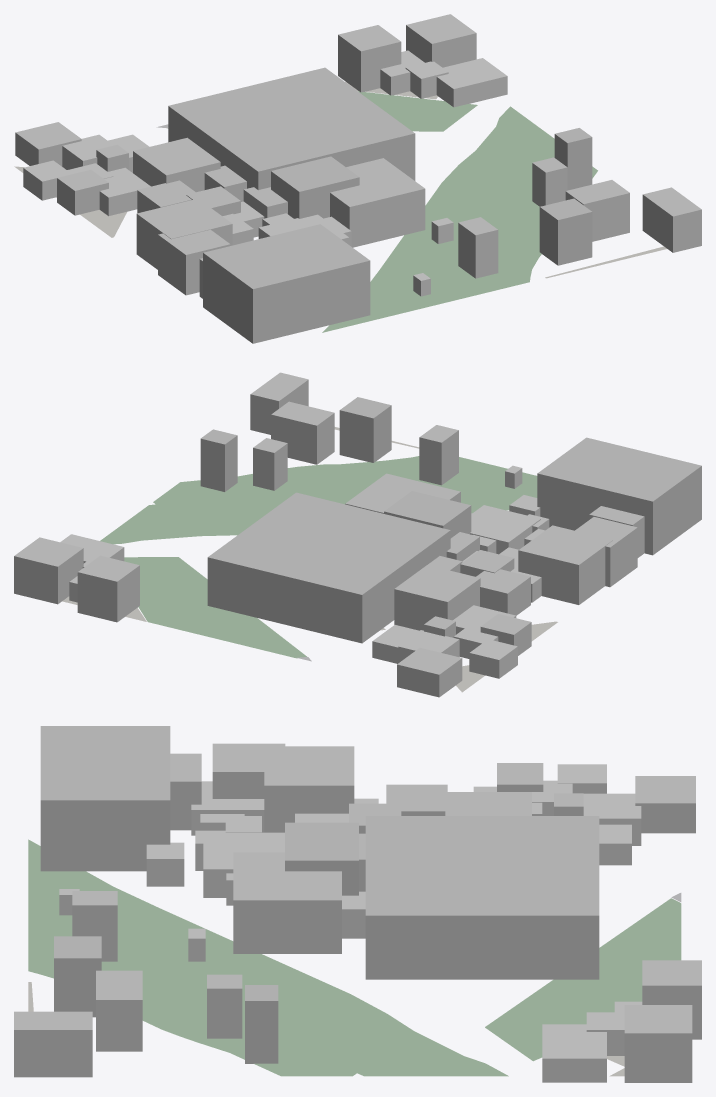
File: 112_109_mid.glb
3 views of the same model, one above another, from view 1: azimuth 30°, elevation 25°; view 2: azimuth 150°, elevation 25°; view 3: azimuth 270°, elevation 25° (orthographic). The views are drawn at different scales.
Size of the model in its own units: 528 by 61.71 by 527.
